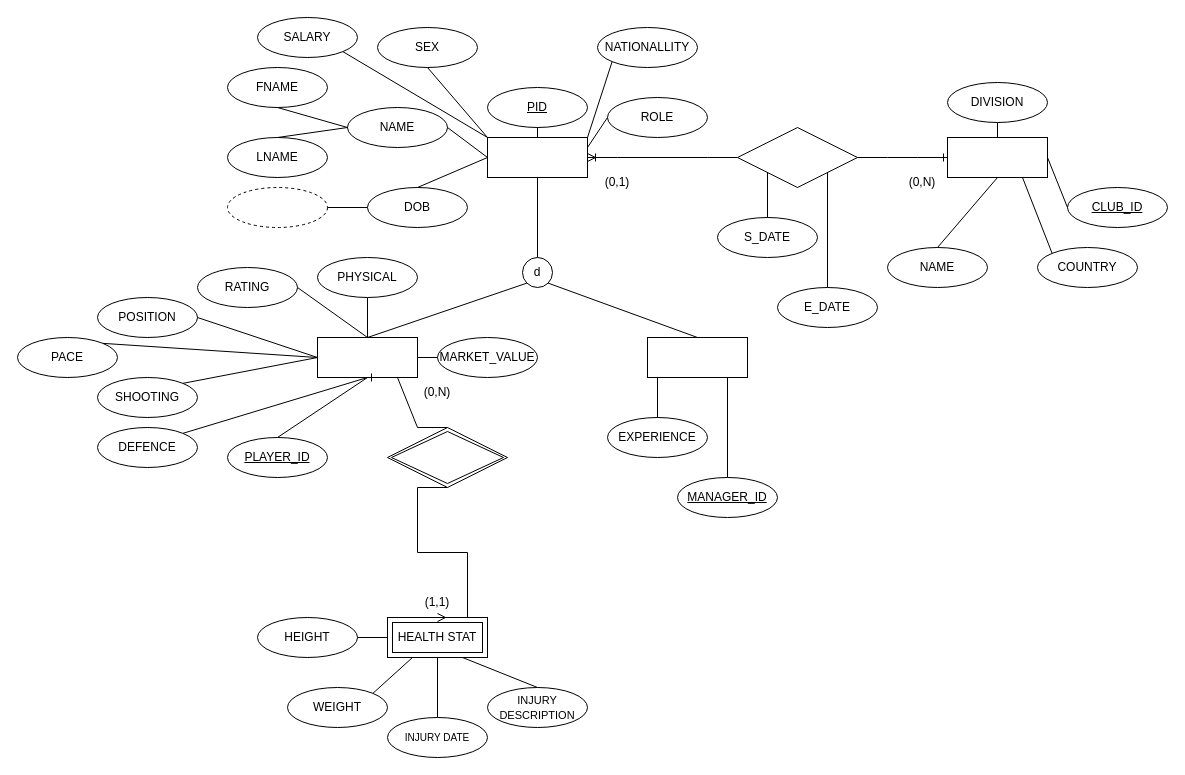
The diagram is 1185 pixels wide and 775 high, and some of its shapes have lost their labels. The centre of each missing label's shape, as x and y in pixels:
AGE: pixel 277 207
CLUB: pixel 997 157
CONTRACT: pixel 797 157
HEALTH CONDITION: pixel 447 457
MANAGER: pixel 697 357
PERSONAL_DETAILS: pixel 537 157
PLAYER: pixel 367 357
